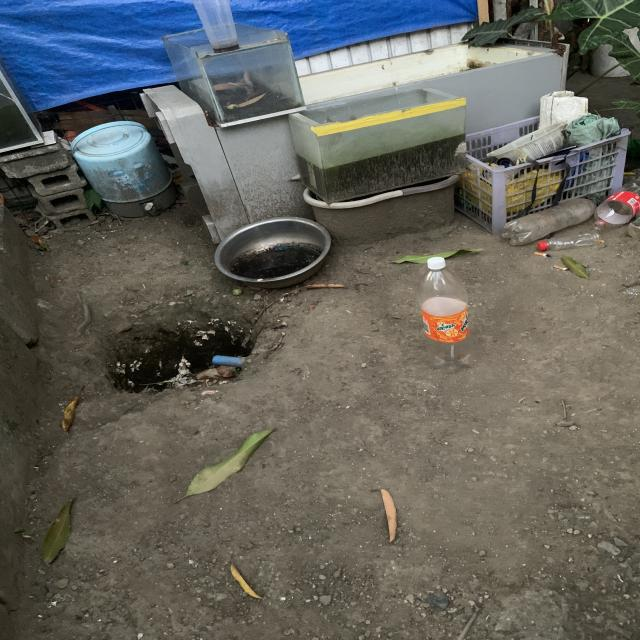Bottle: (419, 256, 471, 372)
